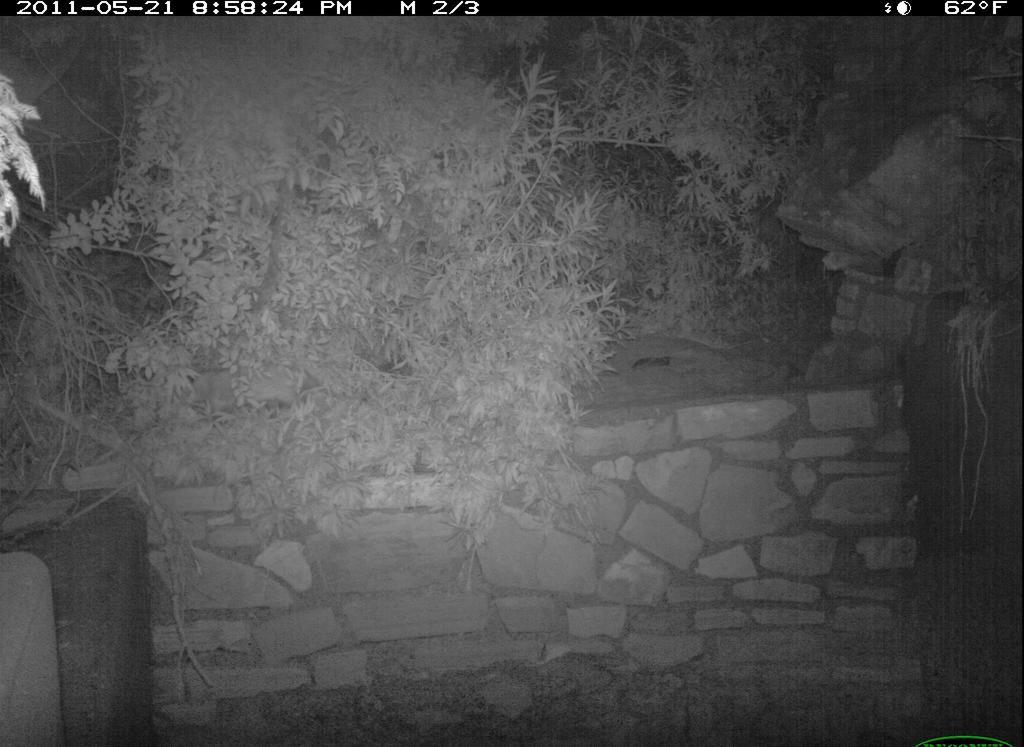opossum: (181, 359, 330, 423)
